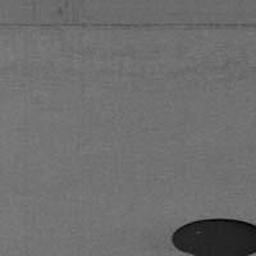Punching: (170, 218, 256, 256)
